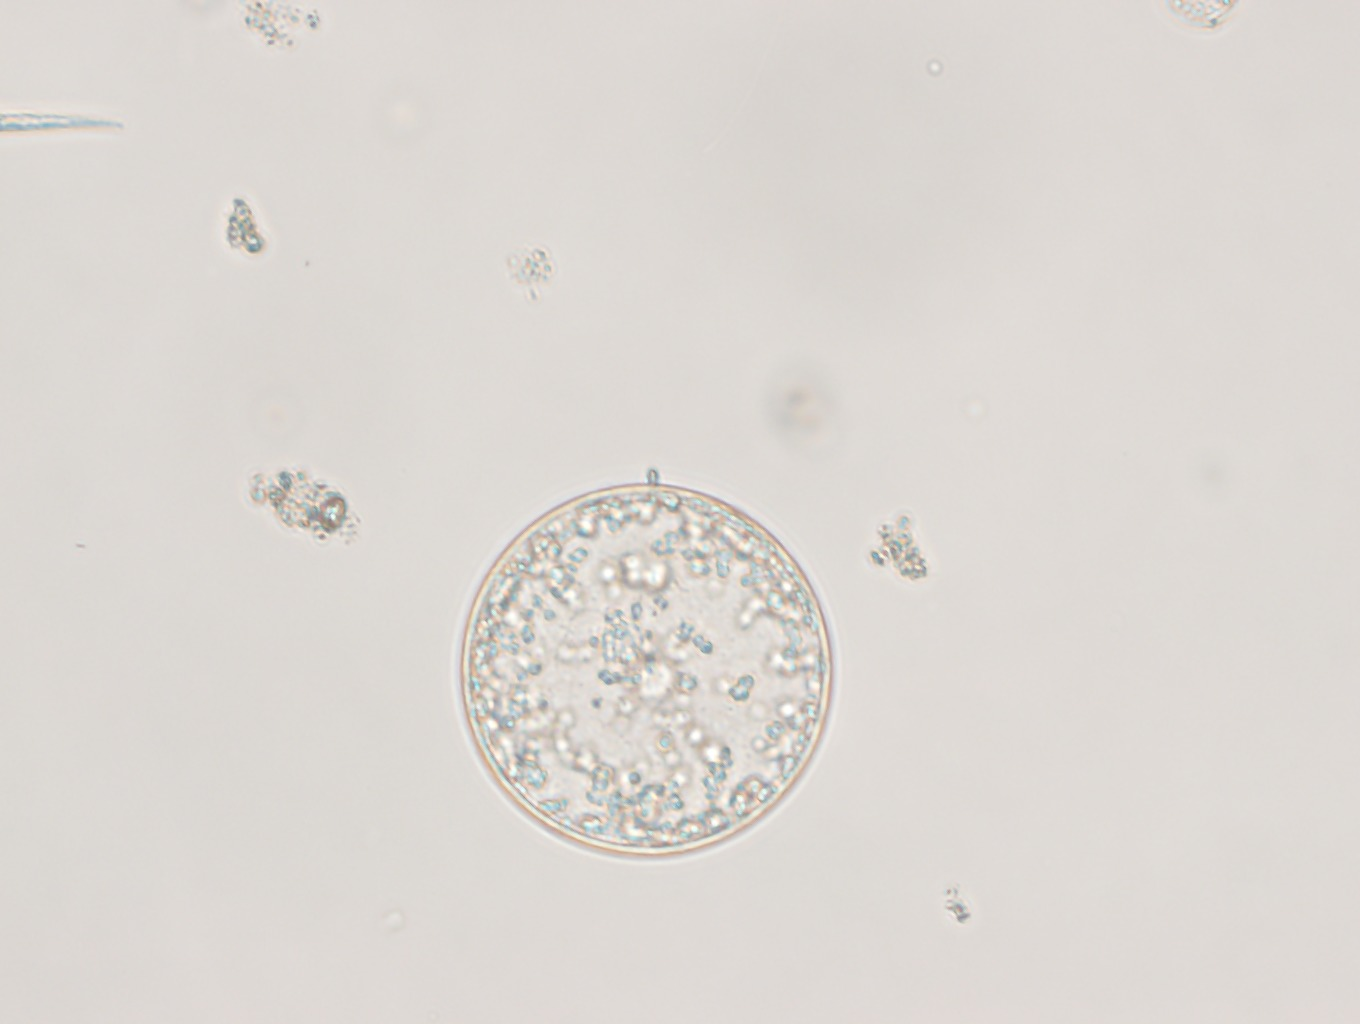coscinodiscus: (460, 480, 835, 861)
